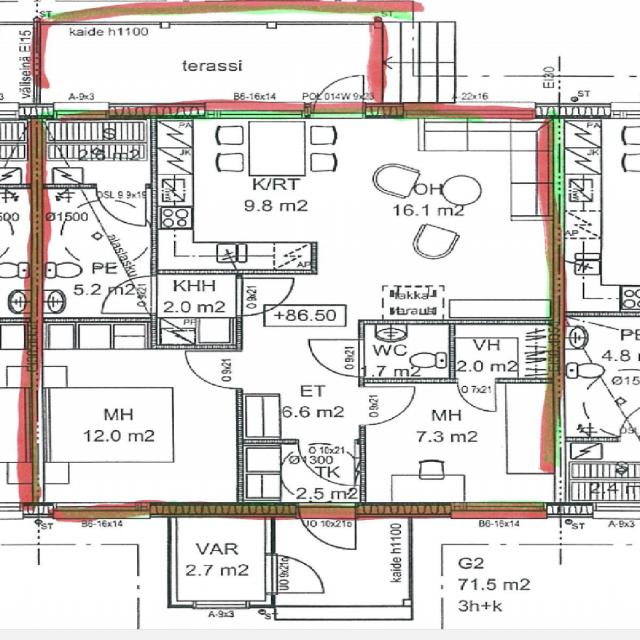door: (298, 502, 354, 559), (298, 439, 354, 486), (314, 67, 362, 118), (265, 555, 325, 593), (309, 339, 365, 377), (236, 278, 292, 316), (96, 183, 145, 225), (186, 352, 243, 388), (359, 388, 415, 424), (102, 277, 157, 313), (458, 378, 495, 410)
